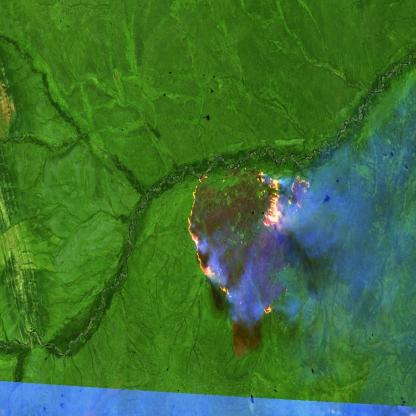fire: (186, 174, 234, 302), (256, 169, 313, 232), (259, 302, 276, 320)
